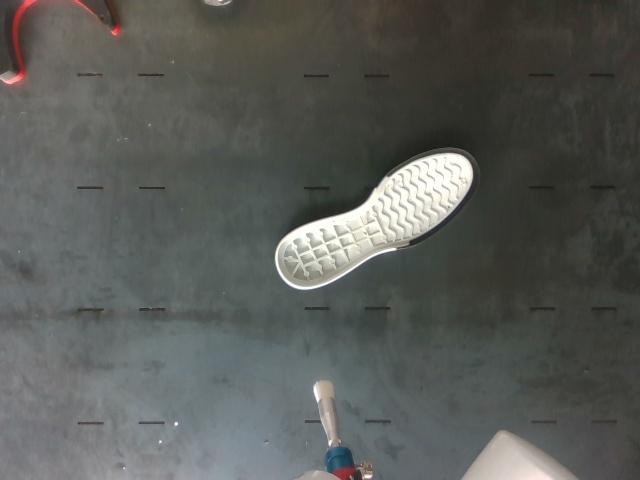shoes: (274, 148, 478, 289)
